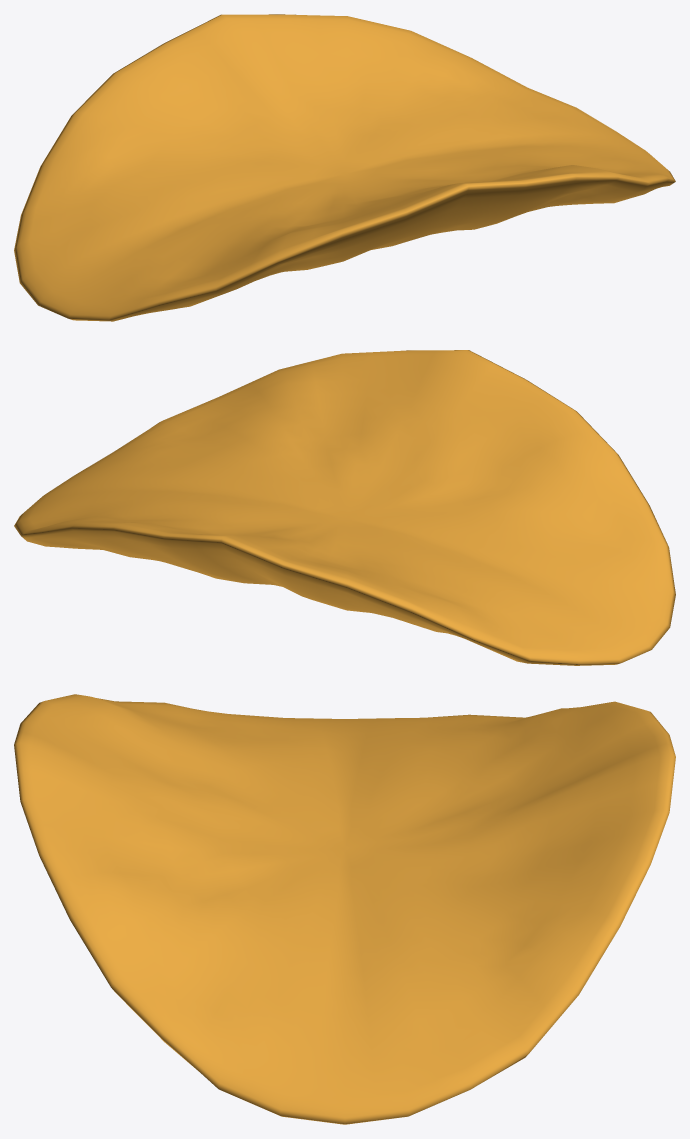
File: new-potato-chip.glb
3 views of the same model, one above another, from view 1: azimuth 30°, elevation 25°; view 2: azimuth 150°, elevation 25°; view 3: azimuth 270°, elevation 25° (orthographic). The views are drawn at different scales.
Parts seen in each view (by area): view 1: Sphere; view 2: Sphere; view 3: Sphere.
Part boxes in pixels (x1,y1,x2,y2): Sphere: (14, 14, 675, 321); Sphere: (14, 350, 675, 665); Sphere: (14, 694, 675, 1124).
Size of the model in its own units: 2.02 by 0.4408 by 1.41.
